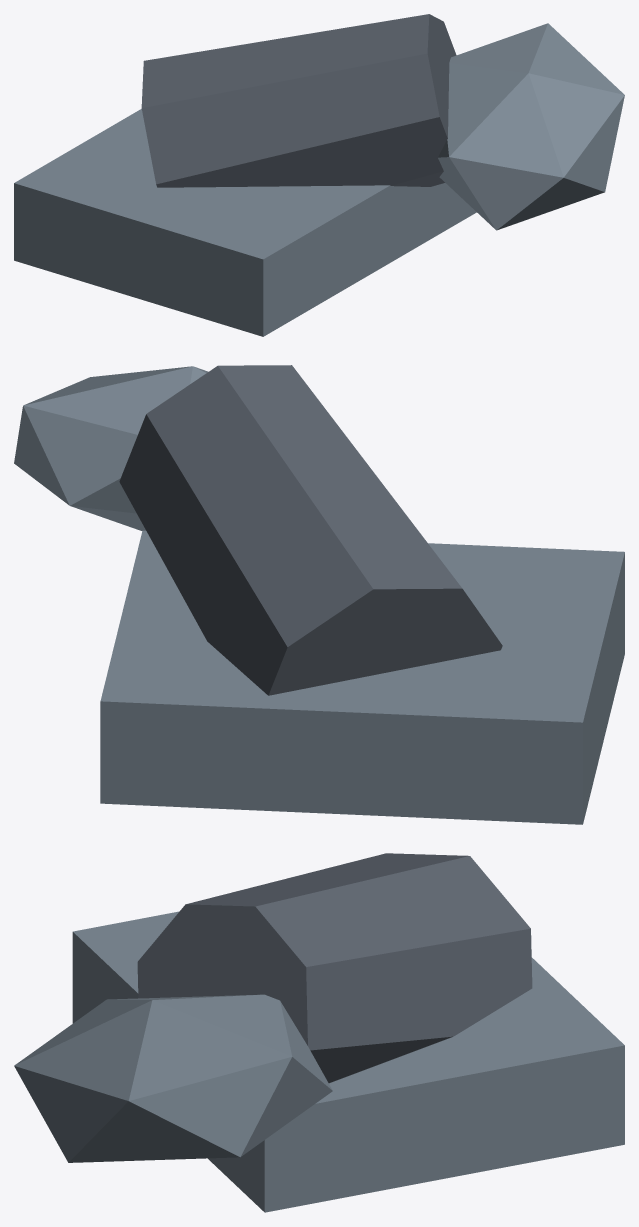
Rendered from INT_C_BrokenColumn_00.glb.
The picture shows the model from 3 angles, top to bottom: view 1: azimuth 30°, elevation 25°; view 2: azimuth 150°, elevation 25°; view 3: azimuth 270°, elevation 25°; orthographic projection. The views are drawn at different scales.
Parts seen in each view (by area): view 1: INT_C_BrokenColumn_00; view 2: INT_C_BrokenColumn_00; view 3: INT_C_BrokenColumn_00.
Part boxes in pixels (x1,y1,x2,y2): INT_C_BrokenColumn_00: [14, 14, 624, 336]; INT_C_BrokenColumn_00: [14, 365, 624, 824]; INT_C_BrokenColumn_00: [14, 853, 624, 1212].
Bounding box in the file's own units: 1.37 × 0.6066 × 1.12.
